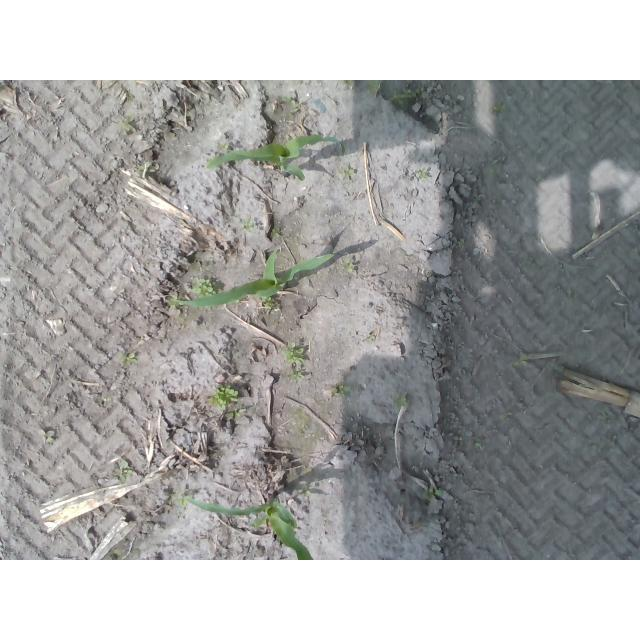Maize: (167, 250, 337, 310), (183, 493, 314, 560), (203, 134, 345, 182)
Weeds: (213, 386, 237, 407), (283, 341, 305, 363), (193, 276, 216, 297), (393, 88, 415, 105), (37, 429, 56, 444), (118, 352, 138, 365), (392, 393, 409, 408), (331, 384, 348, 397), (117, 116, 128, 136), (511, 357, 529, 368), (175, 495, 192, 506), (288, 371, 304, 382), (488, 103, 505, 113), (427, 487, 442, 498), (341, 257, 352, 272), (262, 296, 275, 308), (119, 470, 132, 482), (230, 407, 244, 417), (341, 167, 355, 177), (242, 223, 254, 234), (282, 95, 295, 105), (299, 488, 312, 497), (272, 229, 281, 239), (221, 144, 230, 151)
